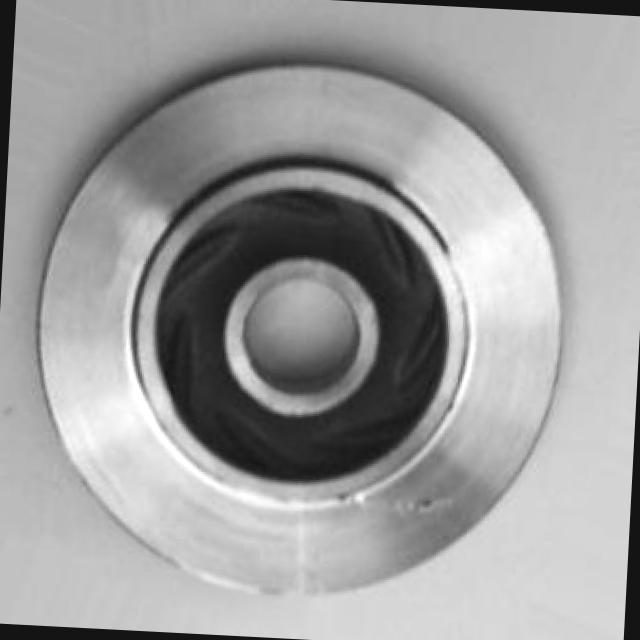Defect: (401, 492, 450, 518)
